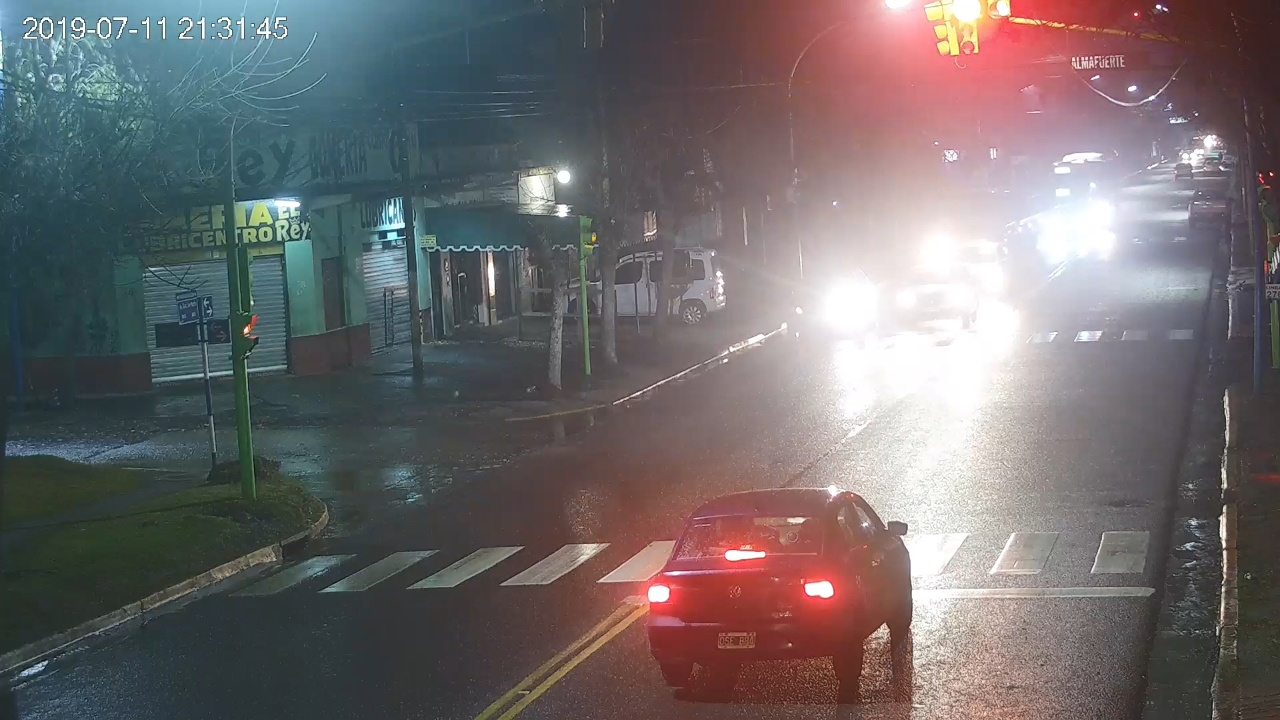car: (647, 489, 915, 683)
traffic light: (957, 2, 980, 53)
